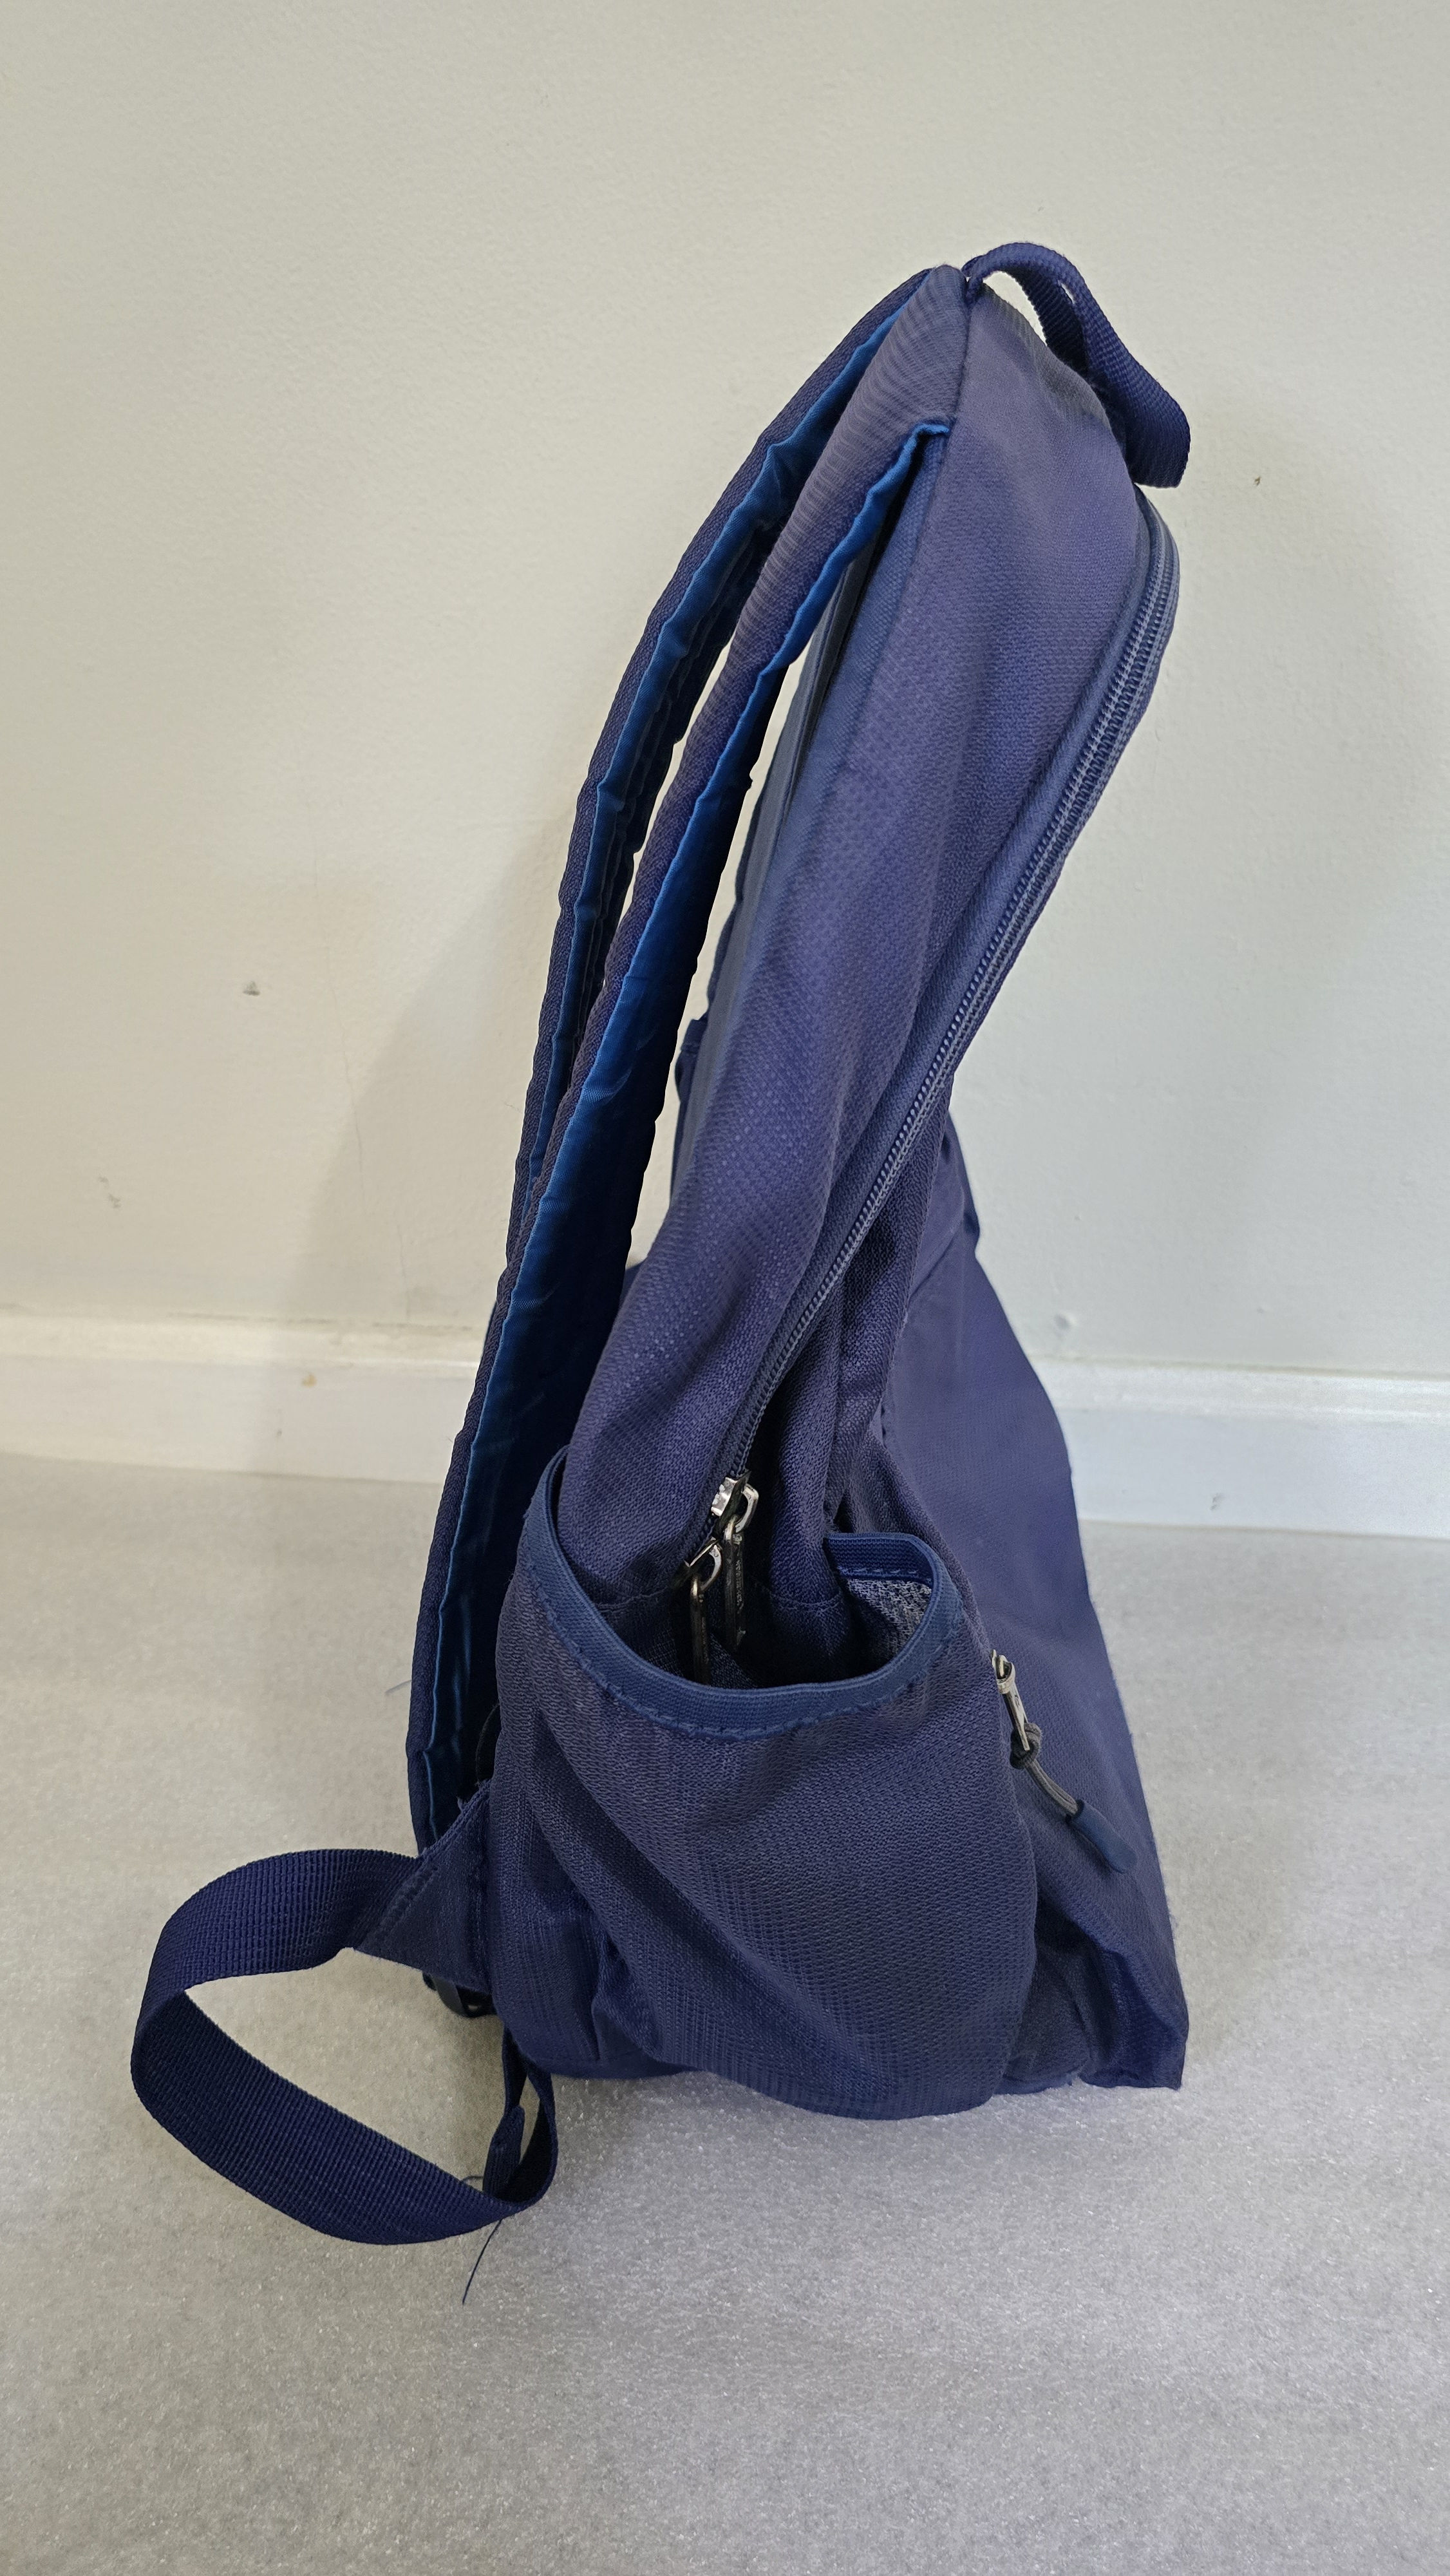bag: (297, 150, 1450, 2181)
